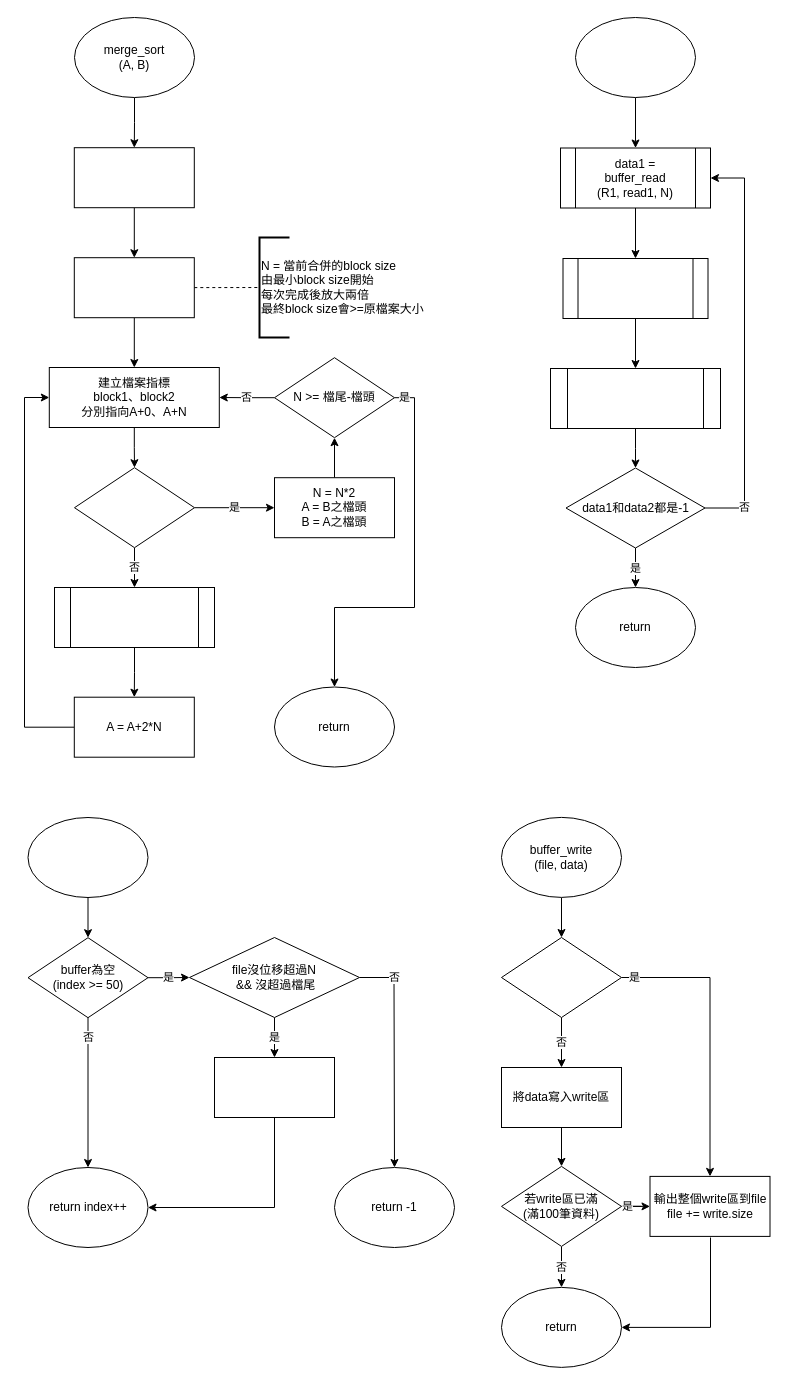
Image size: 788x1385. Some labels were removed from this diagram. Here are the shapes that lost their labels. From the top down, the box of each, then its label:
(574, 16, 696, 98): merge_sort (R1, R2, W)
(73, 147, 194, 208): 將buffer大小規劃成 read1[50], read2[50], write[100]
(73, 257, 194, 318): 初始化N = 200
(562, 258, 708, 318): data2 = buffer_read (R2, read2, N)
(550, 368, 720, 428): buffer_write (W, max(data1, data2))
(74, 467, 194, 548): 若block1超過檔尾
(54, 586, 214, 648): merge_sort (block1, block2, B)
(27, 816, 148, 898): buffer_read (file, buffer, N)
(500, 936, 622, 1018): 若data為-1 (強制輸出)
(214, 1056, 334, 1118): 由file到buffer 讀取下50筆資料 index重設0 並更新file
